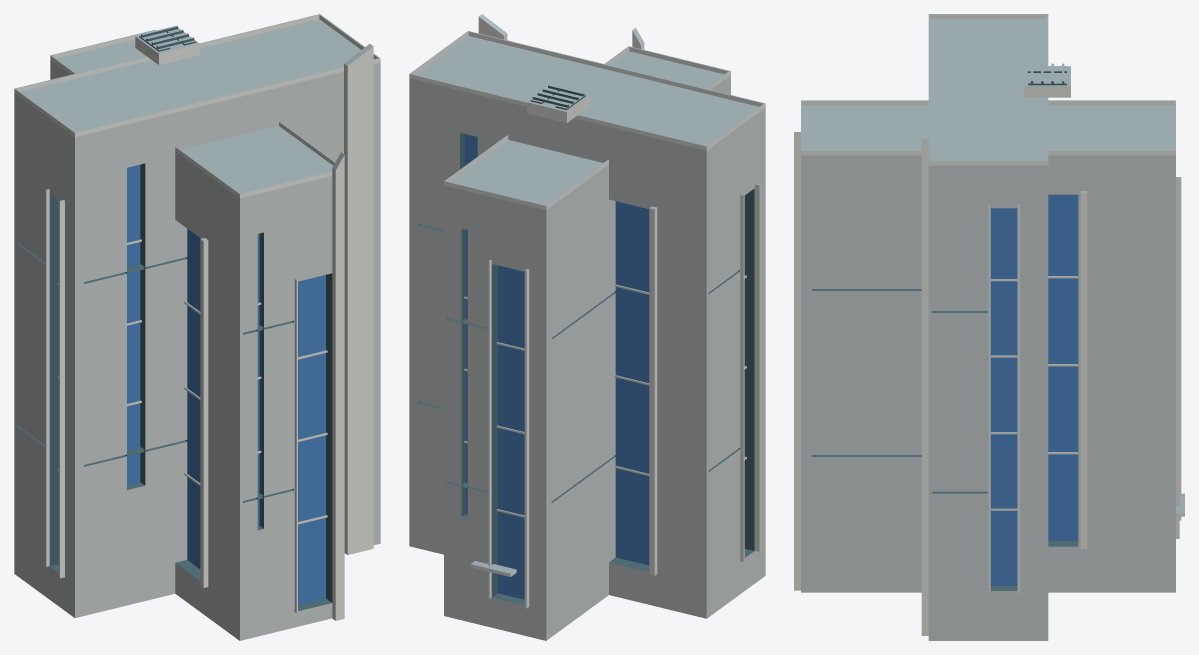
File: 10_Kreuzhaus.obj
3 renders of one model, left to right at view 1: azimuth 30°, elevation 25°; view 2: azimuth 150°, elevation 25°; view 3: azimuth 270°, elevation 25°, orthographic. The views are drawn at different scales.
Size of the model in its own units: 0.6565 by 1 by 0.7135.
